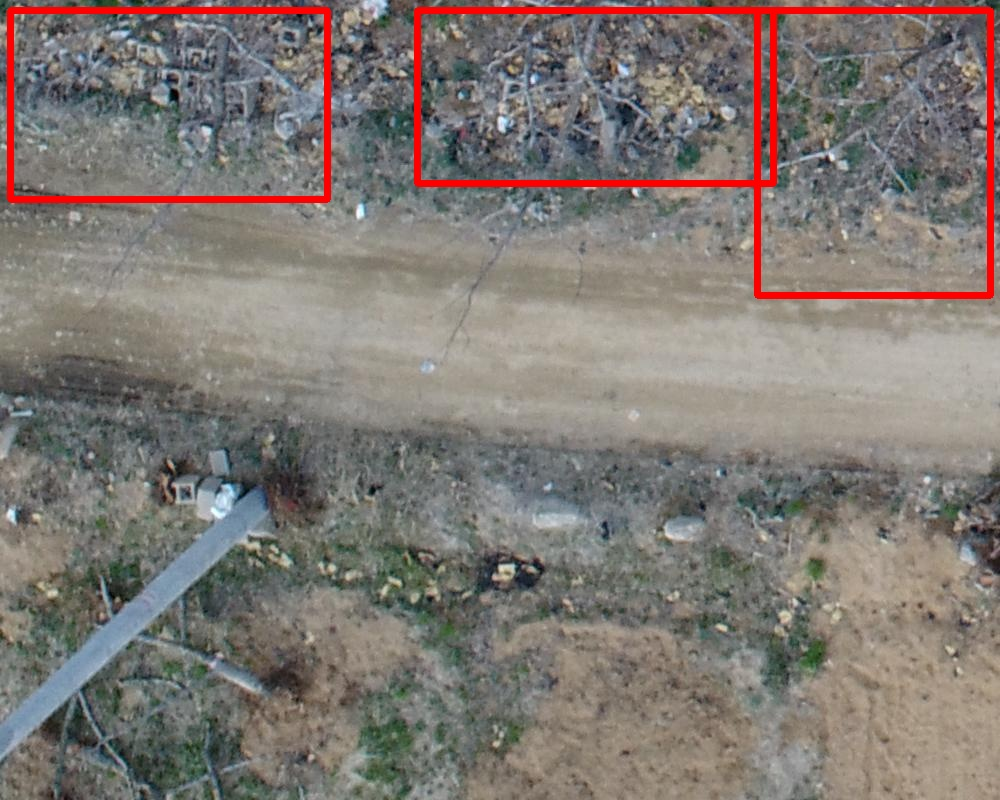apple: (757, 10, 990, 295), (417, 10, 773, 183), (10, 10, 327, 199)
